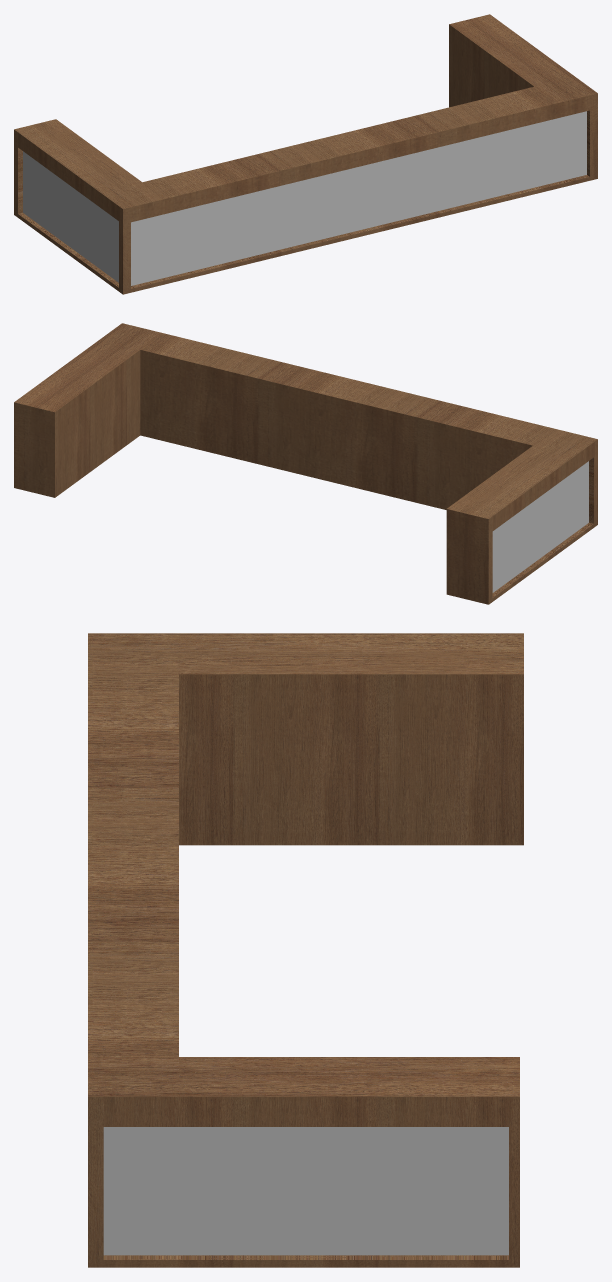
File: Bar structure 2.fbx
3 views of the same model, one above another, from view 1: azimuth 30°, elevation 25°; view 2: azimuth 150°, elevation 25°; view 3: azimuth 270°, elevation 25° (orthographic). The views are drawn at different scales.
Parts seen in each view (by area): view 1: bar structure 2; view 2: bar structure 2; view 3: bar structure 2.
Boxes of the visible parts, x1,y1,x2,y2 form: bar structure 2: [14, 14, 597, 294]; bar structure 2: [14, 323, 597, 604]; bar structure 2: [88, 633, 523, 1267].
Bounding box in the file's own units: 617 × 106 × 245.
